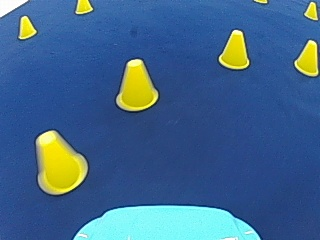cone: (33, 130, 85, 194), (116, 57, 158, 110), (218, 28, 250, 69), (293, 38, 319, 75), (17, 14, 36, 38), (304, 1, 318, 20), (75, 0, 92, 14)
